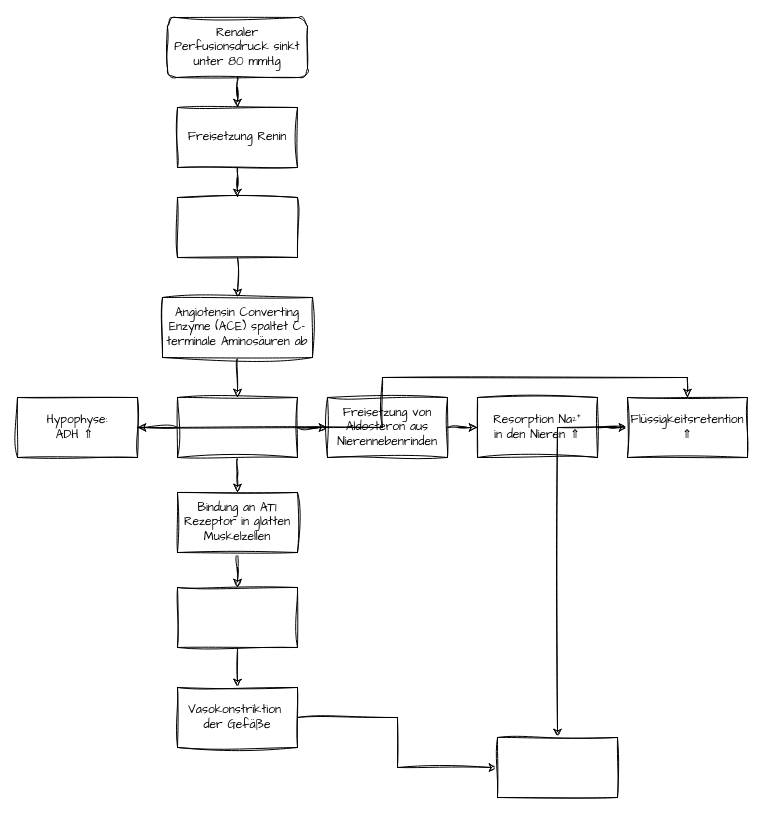
Image size: 765x815. Some labels were removed from this diagram. The shapes that lost their labels are listed below. From the top down, each one's centre as x and y in pixels, then its label:
point 237,227: Renin wandelt Angiotensinogen -> Angiotensin I um
point 237,427: Umwandlung Angiotensin I -> Angiotensin II
point 237,617: Ca²⁺ Freisetzung via IP 3 als second Messenger
point 557,767: Blutdruck ⇑
